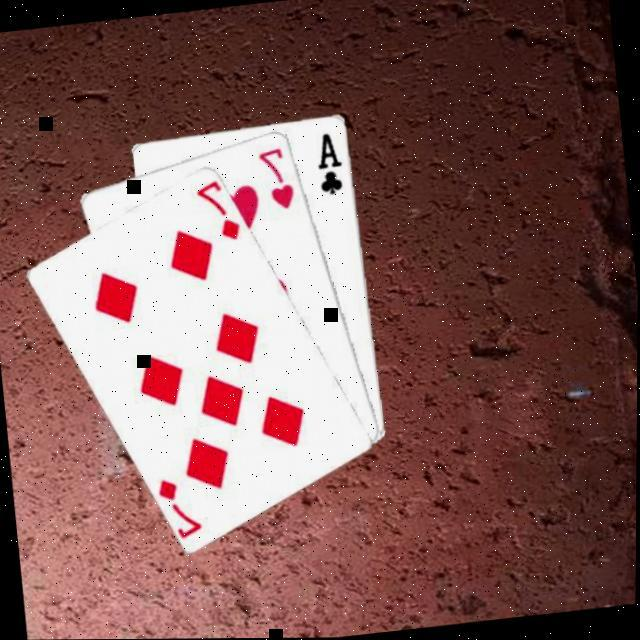7D: (192, 178, 244, 248), (154, 474, 206, 544)
7H: (254, 144, 298, 216)
AC: (310, 130, 348, 200)
